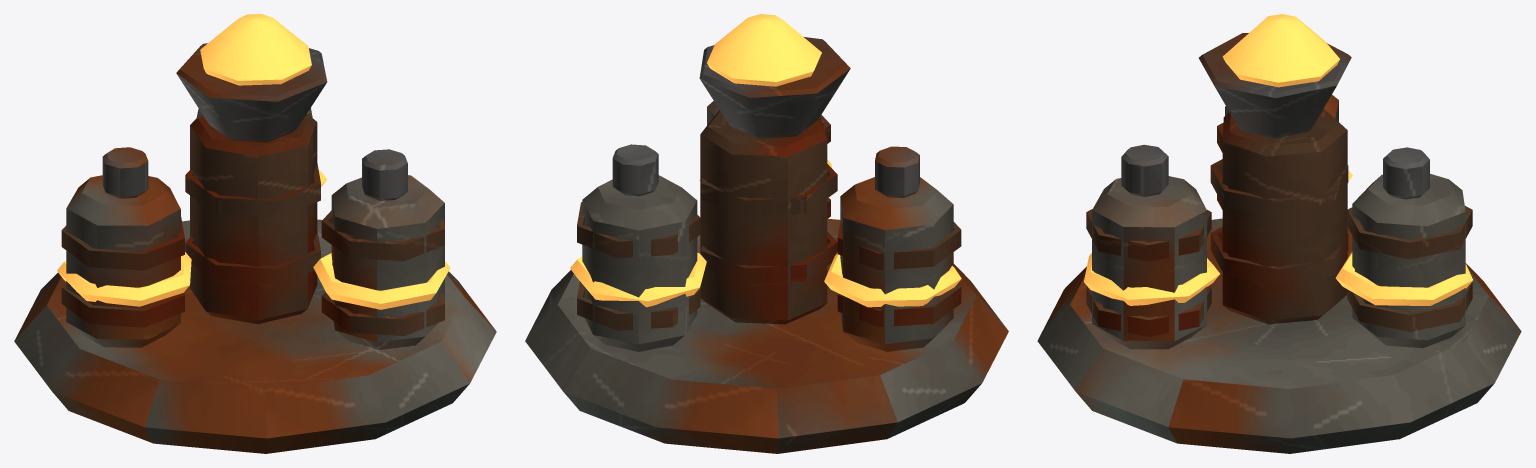
File: R4D_BurnTrap.glb
3 views of the same model, side by side, from view 1: azimuth 30°, elevation 25°; view 2: azimuth 150°, elevation 25°; view 3: azimuth 270°, elevation 25° (orthographic).
Parts seen in each view (by area): view 1: R4D_BurnTrap_Body, R4D_BurnTrap_Flame; view 2: R4D_BurnTrap_Body, R4D_BurnTrap_Flame; view 3: R4D_BurnTrap_Body, R4D_BurnTrap_Flame.
Part boxes in pixels (box(x1,y1,x2,y2)): R4D_BurnTrap_Body: box(14, 43, 496, 453); R4D_BurnTrap_Flame: box(200, 14, 311, 85); R4D_BurnTrap_Body: box(525, 37, 1008, 453); R4D_BurnTrap_Flame: box(707, 14, 821, 86); R4D_BurnTrap_Body: box(1037, 33, 1521, 453); R4D_BurnTrap_Flame: box(1222, 14, 1339, 87).
Bounding box in the file's own units: 0.3696 × 0.288 × 0.3696.
Materials: 5 (4 with a texture image).
